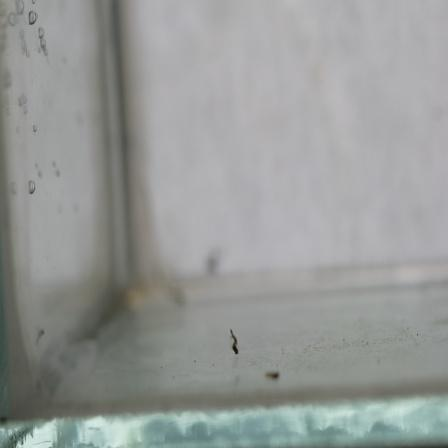Jentik-Nyamuk: (226, 325, 242, 357)
